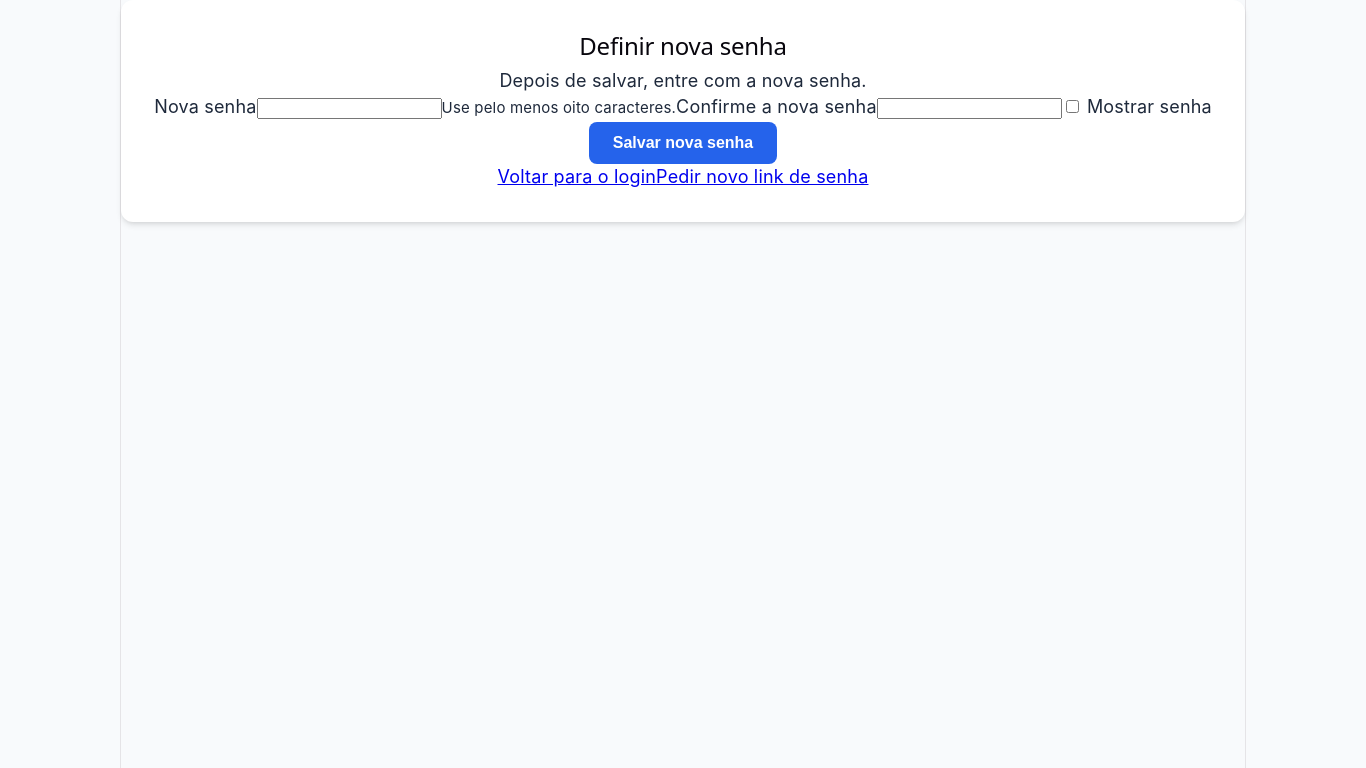
Test case: Fluxos públicos da conta › valida a confirmação da senha e envia somente a senha nova e o token
This screenshot has width=1366, height=768.
Type "novaSenha123" into the password field labelled "Nova senha" at (349, 109), box top-left (256, 98), bottom-right (442, 119)
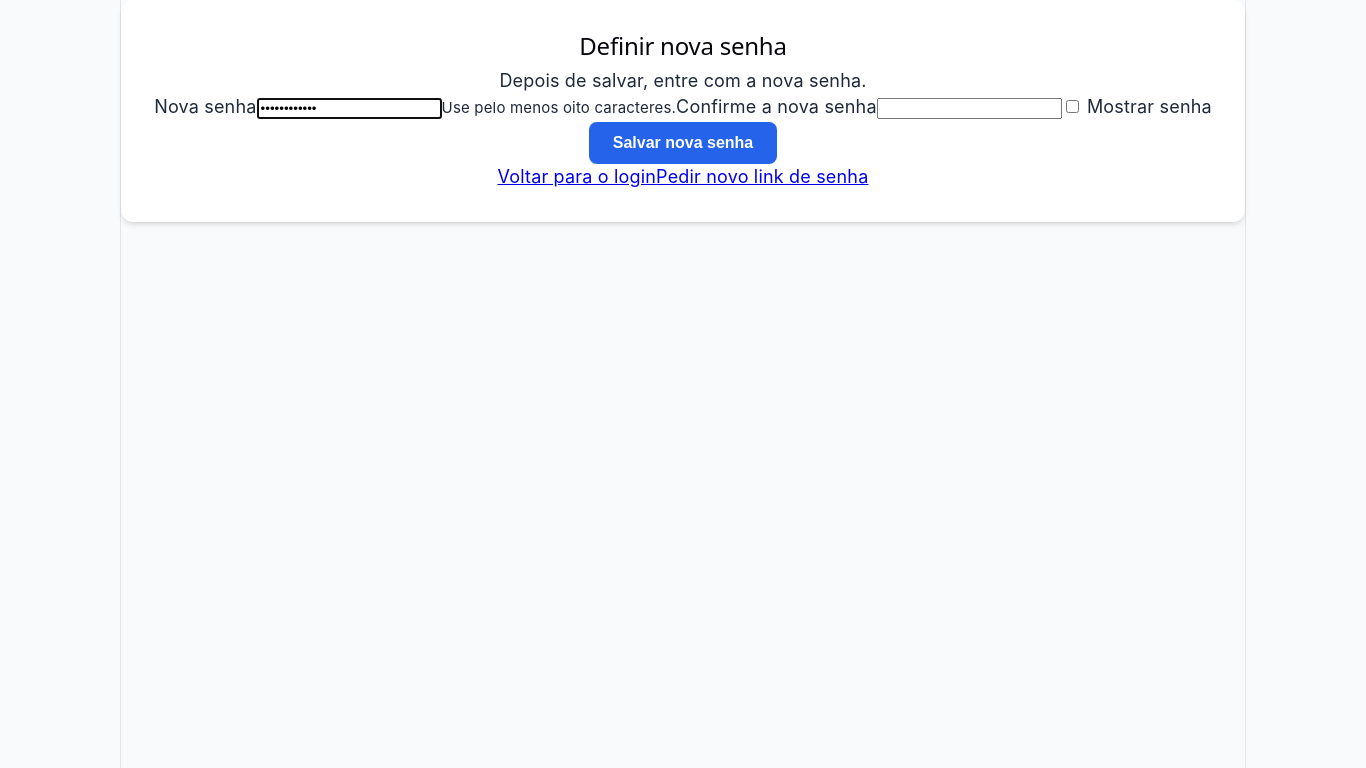
Type "outraSenha123" into the password field labelled "Confirme a nova senha" at (969, 109), box top-left (877, 98), bottom-right (1062, 119)
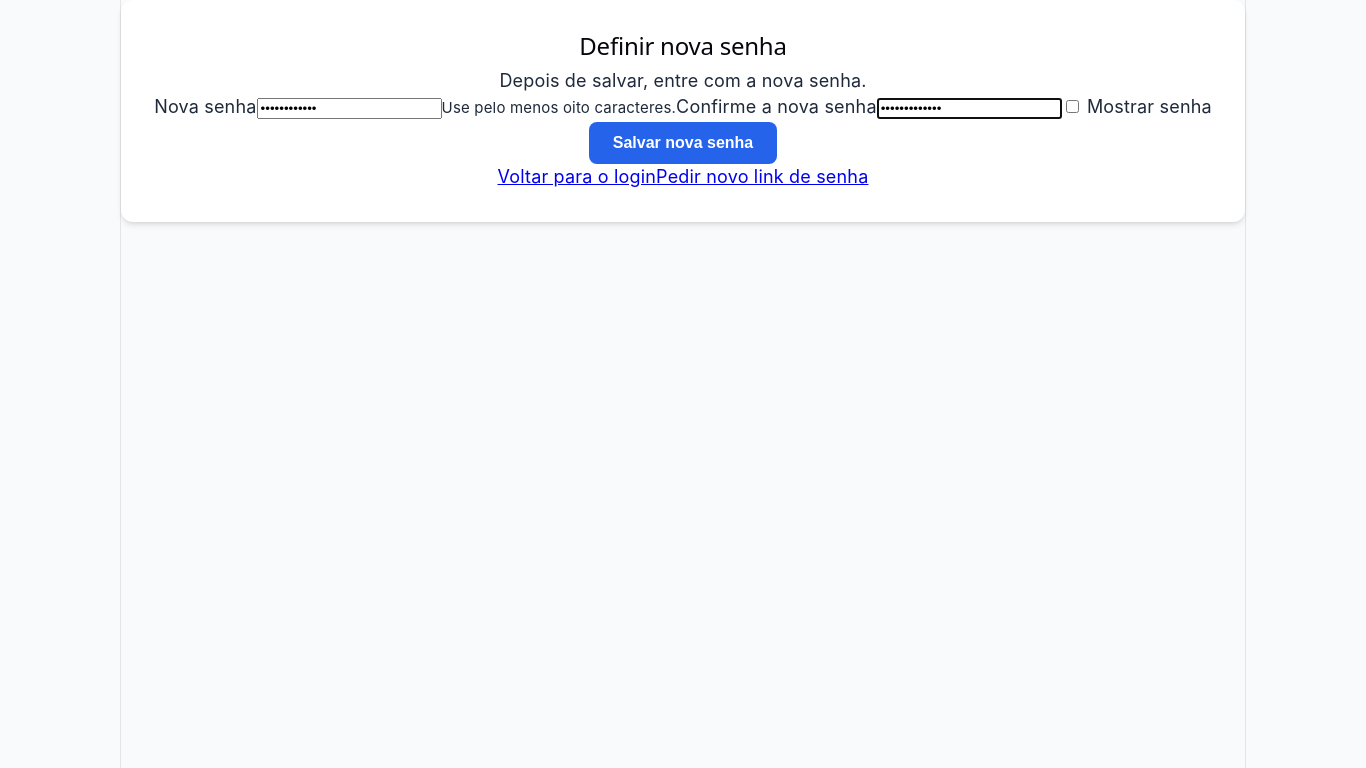
Click the button "Salvar nova senha" at (683, 142), box top-left (589, 122), bottom-right (777, 164)
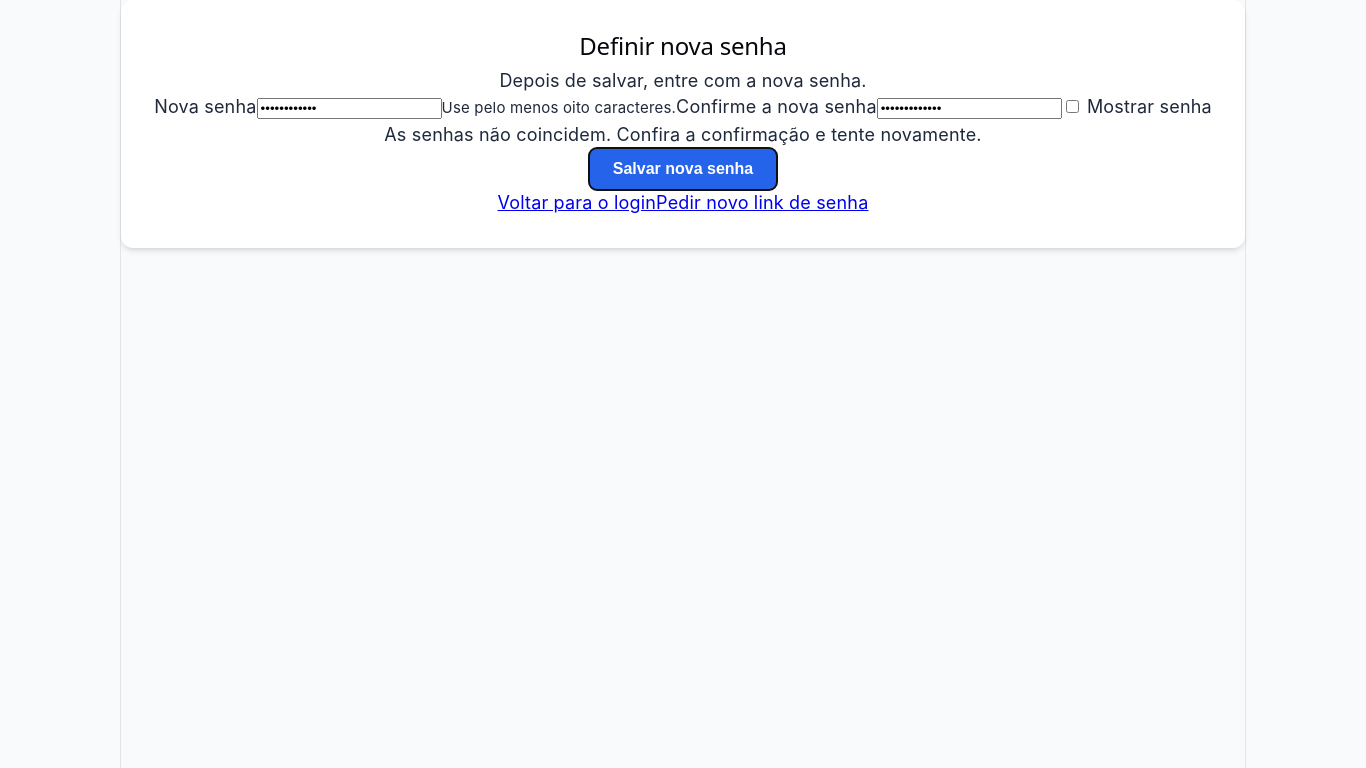
Expected: the message shows "As senhas não coincidem", top-left (384, 124), bottom-right (982, 144)
Type "novaSenha123" into the password field labelled "Confirme a nova senha" at (969, 109), box top-left (877, 98), bottom-right (1062, 119)
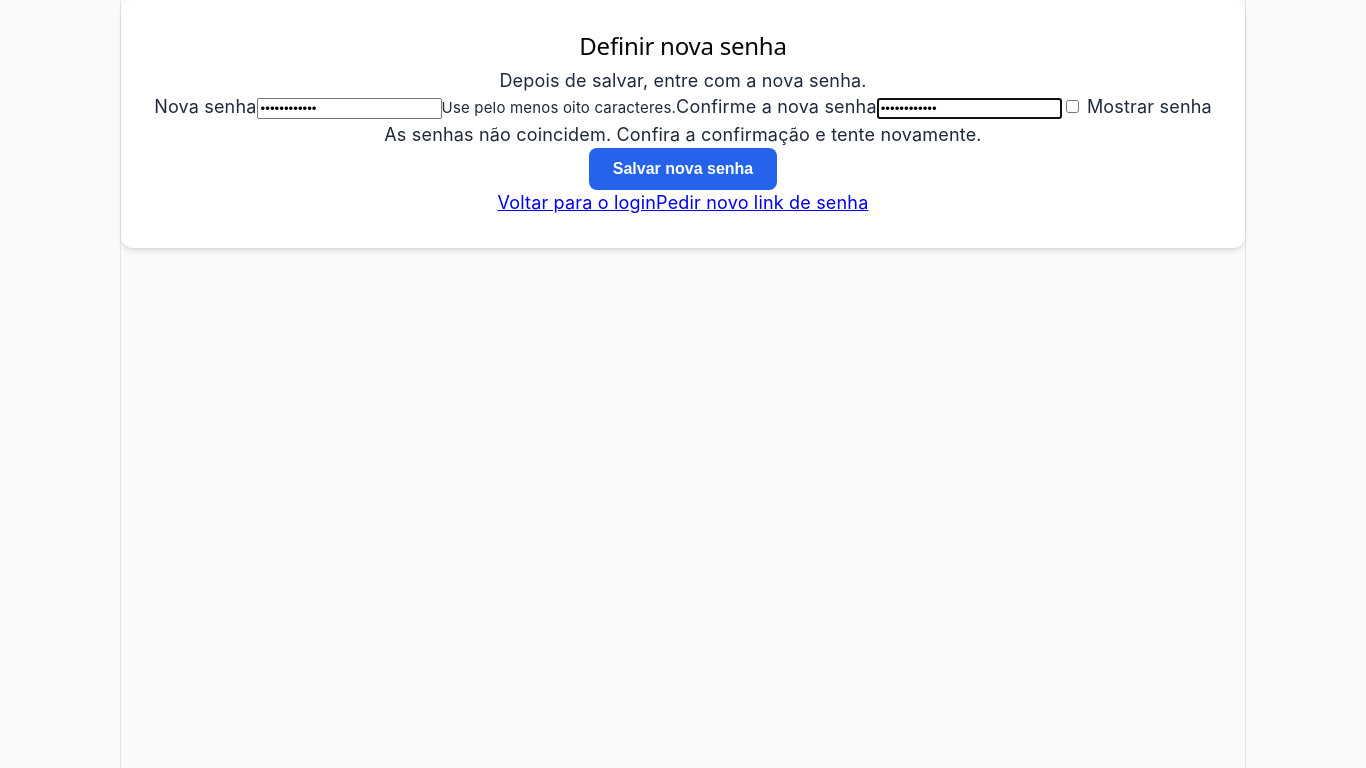
Click the button "Salvar nova senha" at (683, 169), box top-left (589, 148), bottom-right (777, 190)
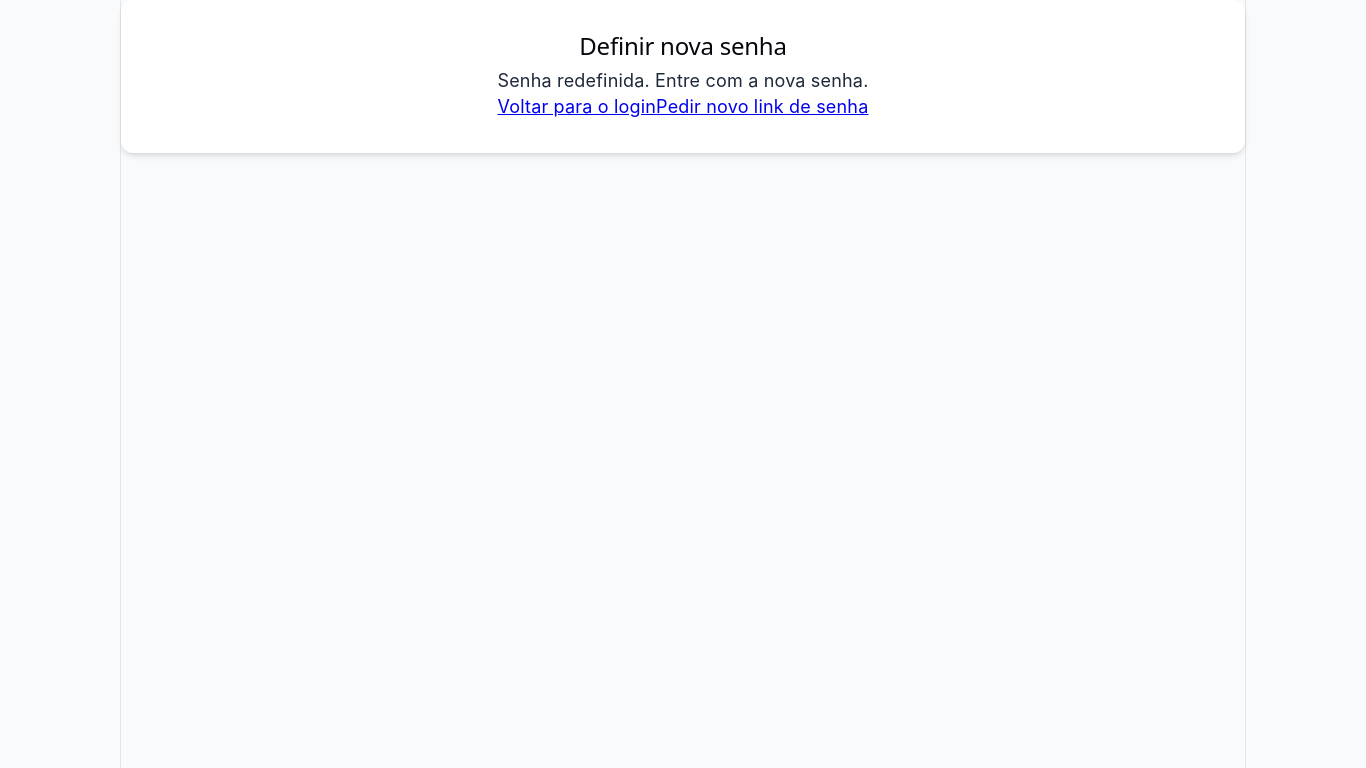
Expected: the message shows "Senha redefinida", top-left (498, 70), bottom-right (868, 91)
